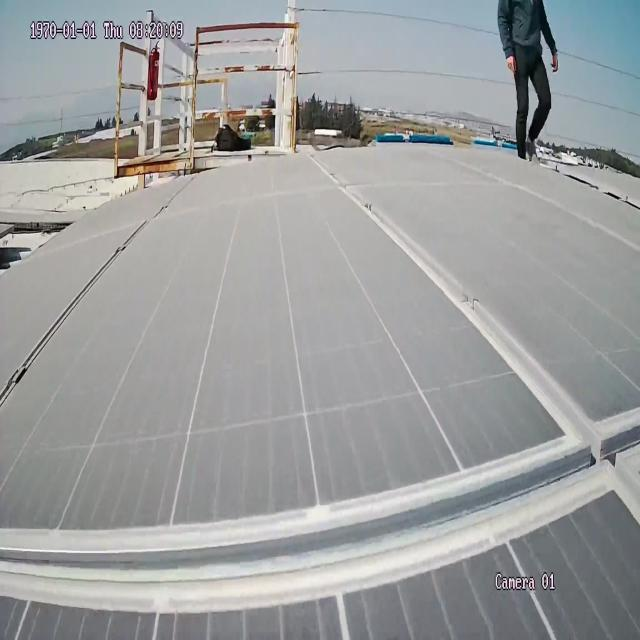interior panel: (0, 148, 640, 640)
outher panel: (0, 212, 86, 295)
